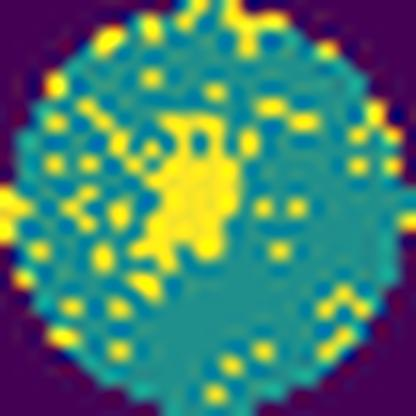Center: (128, 112, 242, 280)
